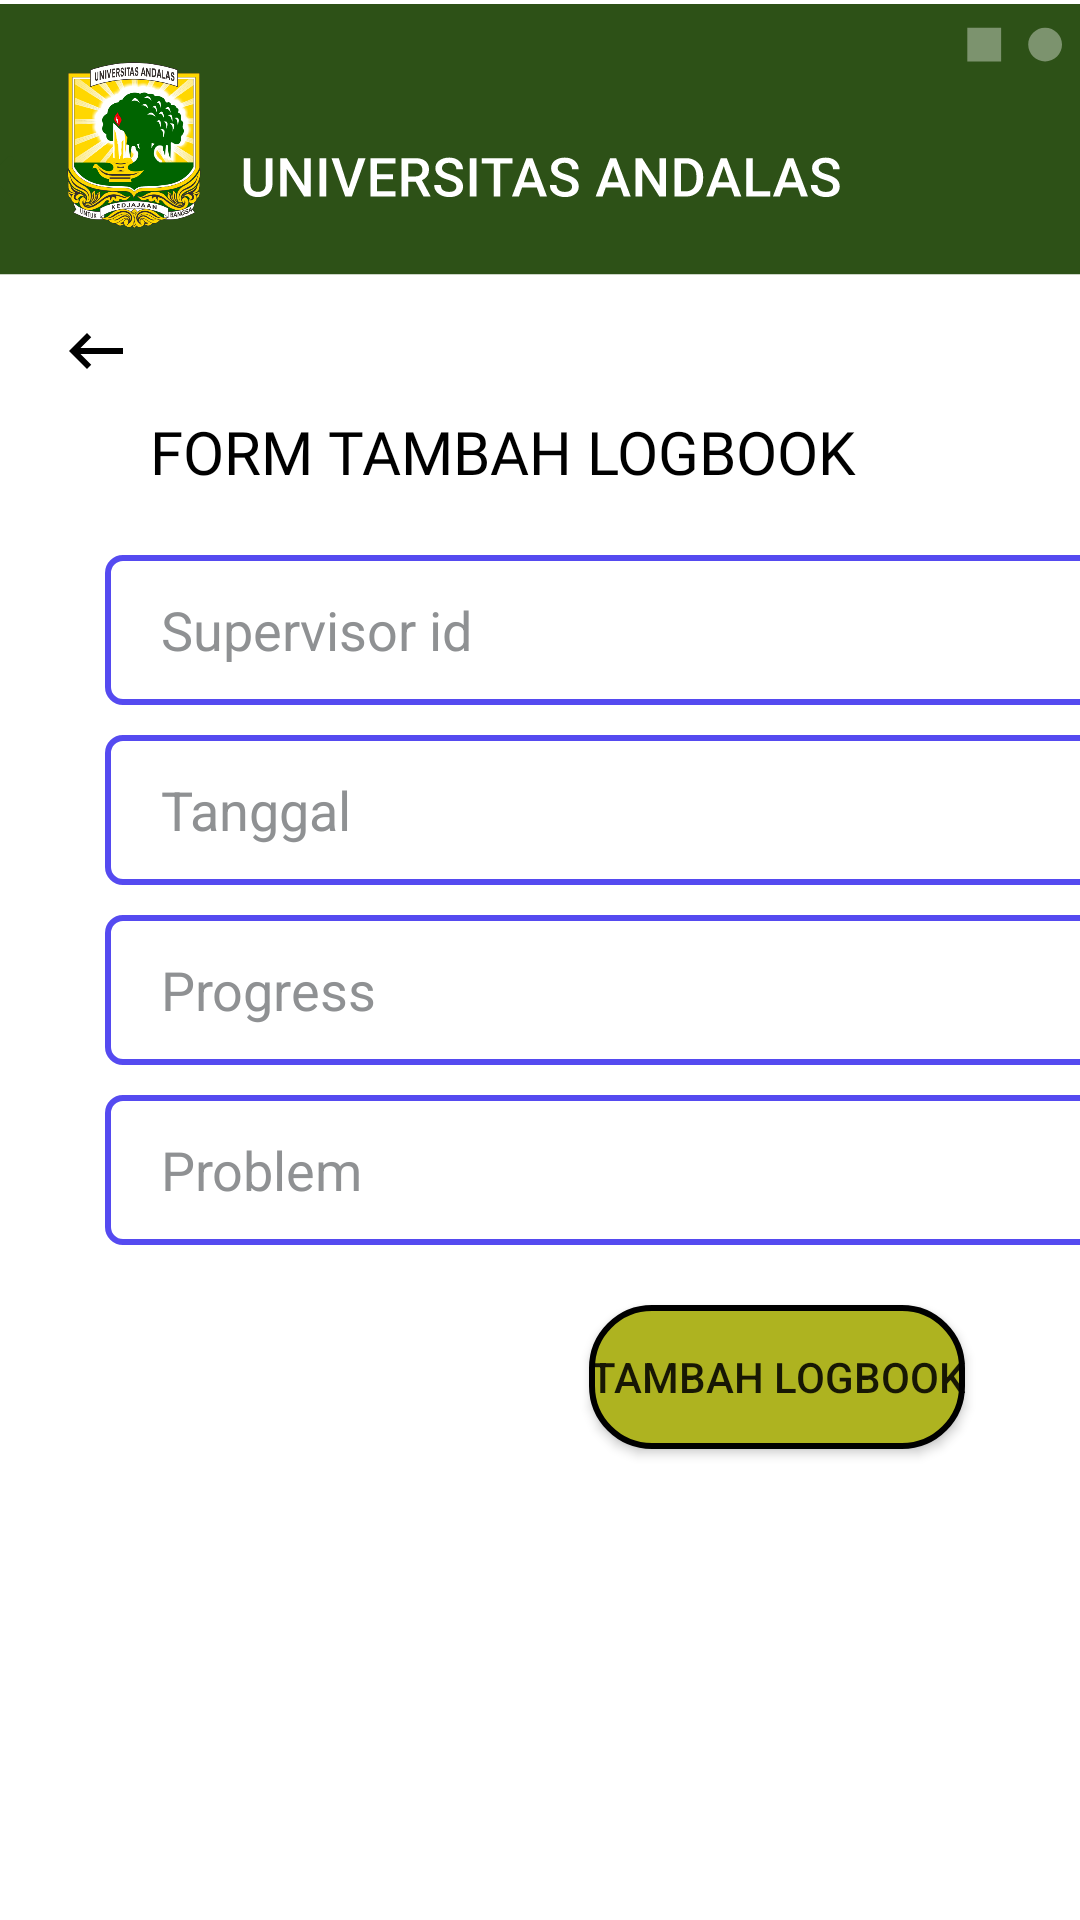

Screen size 1080×1920. Icon name, then its box in pixels as (x1, y1, x2, y2):
back: (69, 333, 123, 369)
